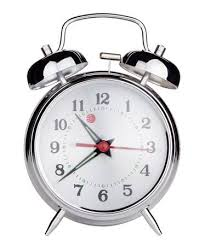alarm_clock: (17, 15, 179, 235)
